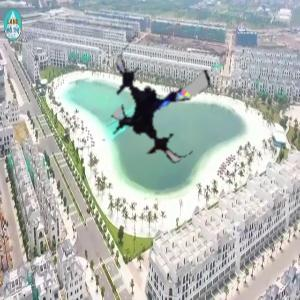drone: (94, 34, 227, 167)
